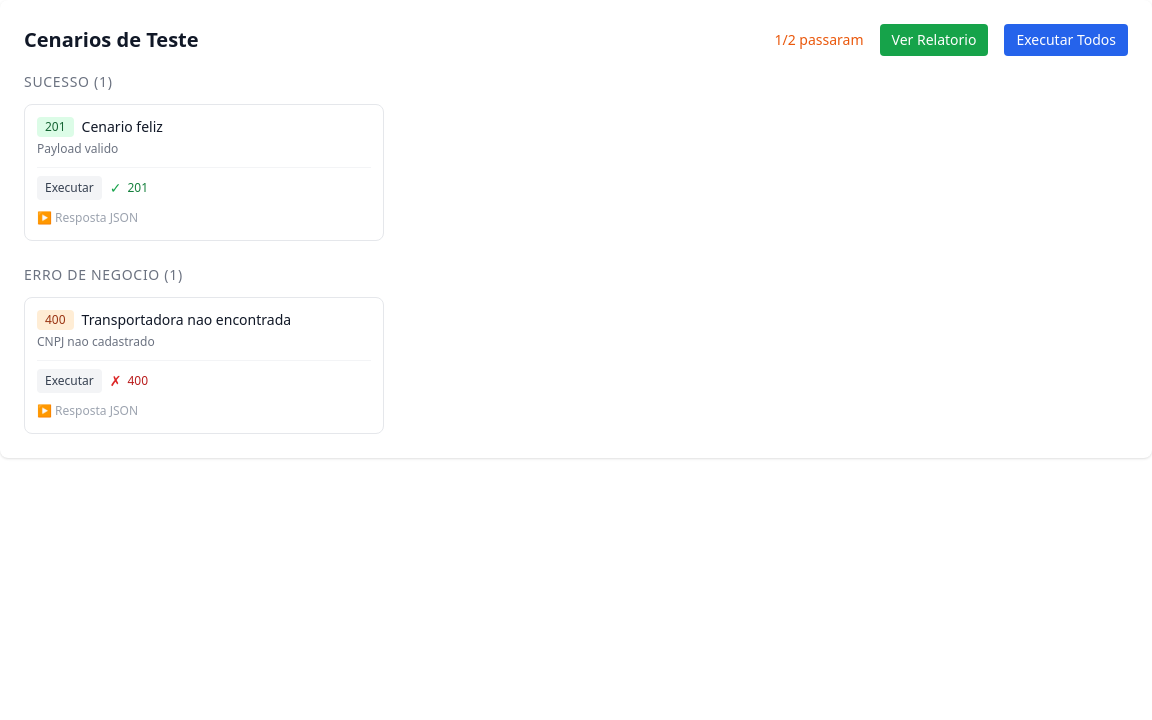
Test: ScenarioReport › AC2: Report Modal Content › shows pass/fail indicators and actual status codes
Click the button "Ver Relatorio" at (934, 40), box [880,24,988,56]
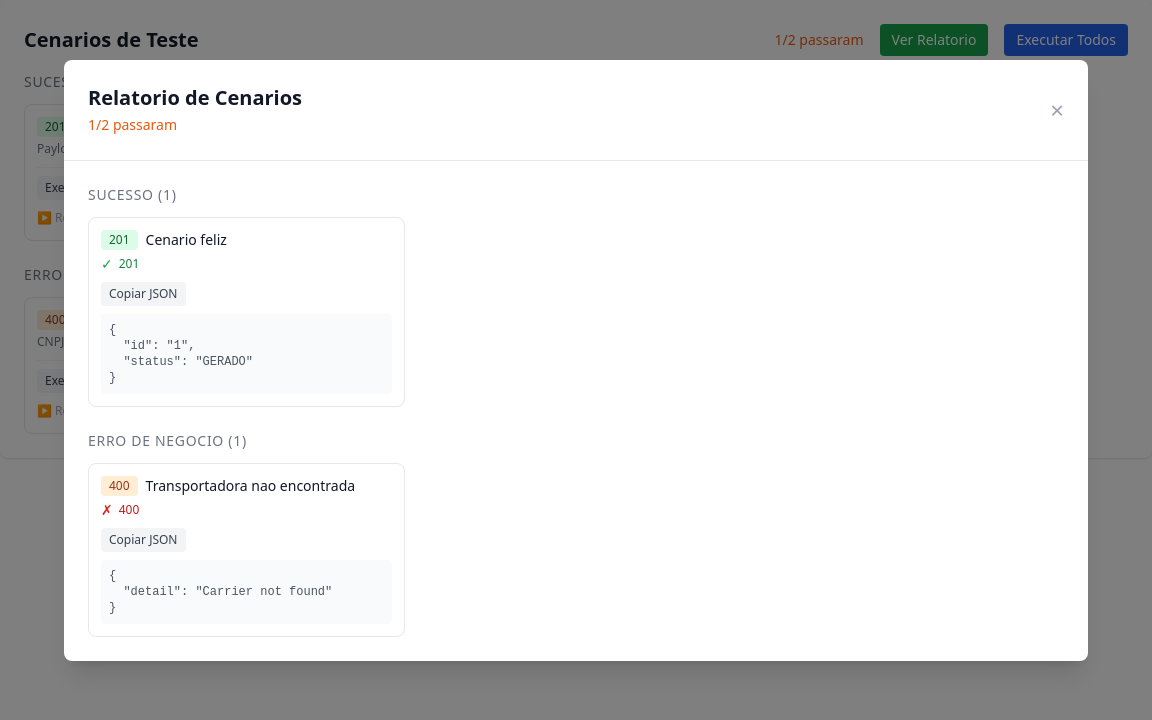
Check: the element with test id "report-modal" shows "201", box [109,230,130,248]
Check: the element with test id "report-modal" shows "400", box [109,476,130,494]
